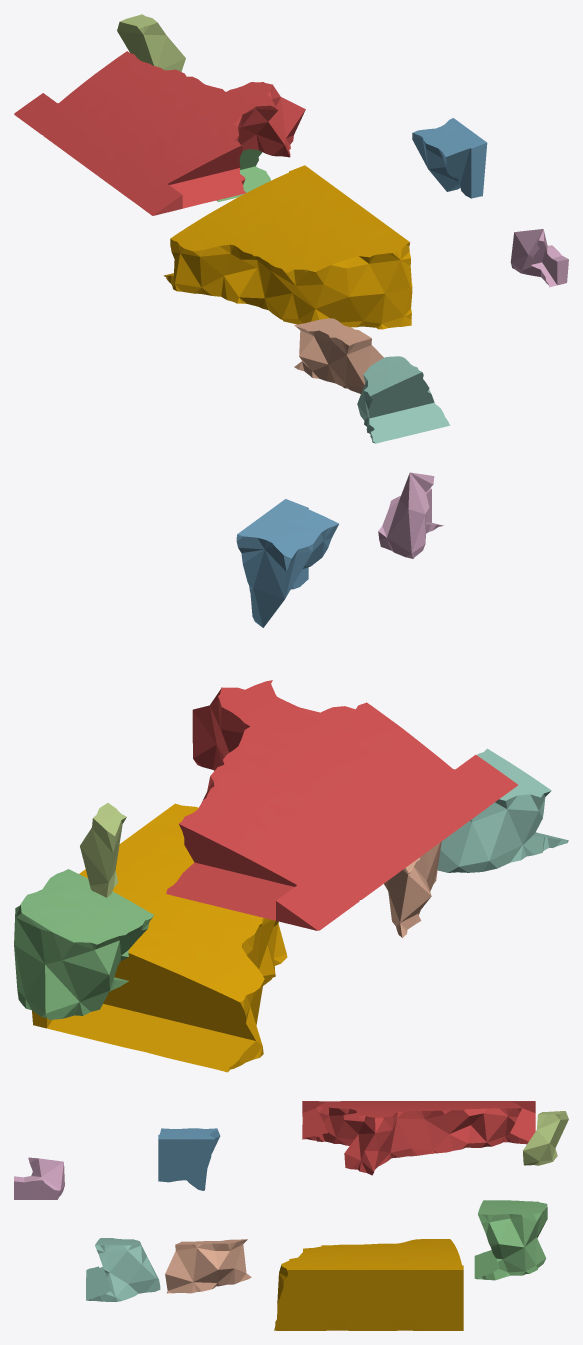
Rendered from mode_18_8pcs_transformed.glb.
3 views of the same model, one above another, from view 1: azimuth 30°, elevation 25°; view 2: azimuth 150°, elevation 25°; view 3: azimuth 270°, elevation 25° (orthographic). The views are drawn at different scales.
Visible parts, largest first — view 1: piece_0.obj, piece_1.obj, piece_4.obj, piece_7.obj, piece_2.obj, piece_5.obj, piece_6.obj, piece_3.obj; view 2: piece_1.obj, piece_0.obj, piece_3.obj, piece_4.obj, piece_2.obj, piece_6.obj, piece_5.obj, piece_7.obj; view 3: piece_0.obj, piece_1.obj, piece_3.obj, piece_7.obj, piece_4.obj, piece_2.obj, piece_6.obj, piece_5.obj.
Boxes of the visible parts, x1=… form: piece_0.obj: x1=163, y1=165, x2=412, y2=329; piece_1.obj: x1=14, y1=51, x2=305, y2=215; piece_4.obj: x1=357, y1=356, x2=449, y2=443; piece_7.obj: x1=294, y1=318, x2=383, y2=393; piece_2.obj: x1=412, y1=118, x2=487, y2=198; piece_5.obj: x1=117, y1=14, x2=185, y2=71; piece_6.obj: x1=510, y1=229, x2=568, y2=287; piece_3.obj: x1=217, y1=149, x2=270, y2=201; piece_1.obj: x1=166, y1=680, x2=517, y2=930; piece_0.obj: x1=32, y1=803, x2=287, y2=1072; piece_3.obj: x1=14, y1=869, x2=154, y2=1019; piece_4.obj: x1=437, y1=748, x2=568, y2=872; piece_2.obj: x1=236, y1=499, x2=338, y2=627; piece_6.obj: x1=378, y1=472, x2=443, y2=558; piece_5.obj: x1=80, y1=803, x2=126, y2=897; piece_7.obj: x1=384, y1=841, x2=441, y2=937; piece_0.obj: x1=274, y1=1239, x2=463, y2=1330; piece_1.obj: x1=302, y1=1101, x2=535, y2=1175; piece_3.obj: x1=474, y1=1200, x2=547, y2=1280; piece_7.obj: x1=165, y1=1239, x2=251, y2=1293; piece_4.obj: x1=86, y1=1238, x2=160, y2=1301; piece_2.obj: x1=158, y1=1128, x2=220, y2=1190; piece_6.obj: x1=14, y1=1157, x2=64, y2=1199; piece_5.obj: x1=523, y1=1111, x2=568, y2=1165.
Bounding box in the file's own units: 1 × 0.8915 × 2.31.
